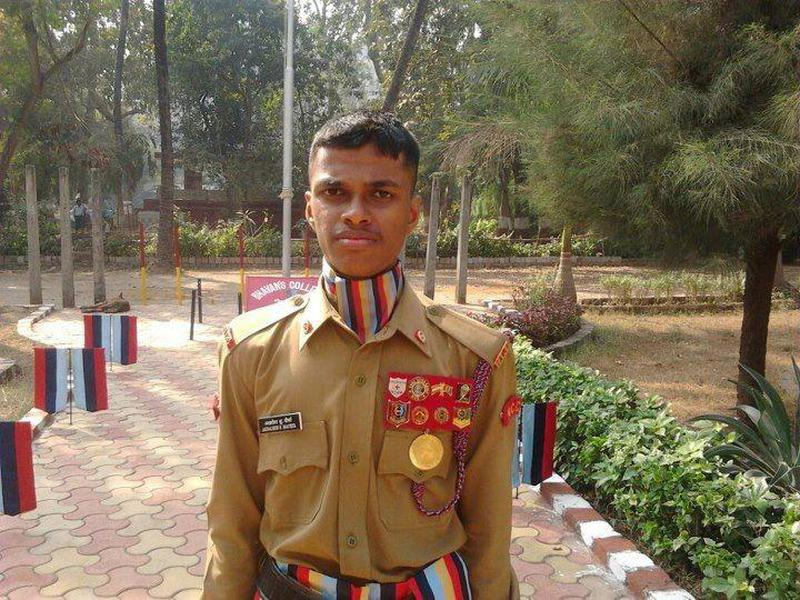without_mask: (308, 144, 410, 278)
